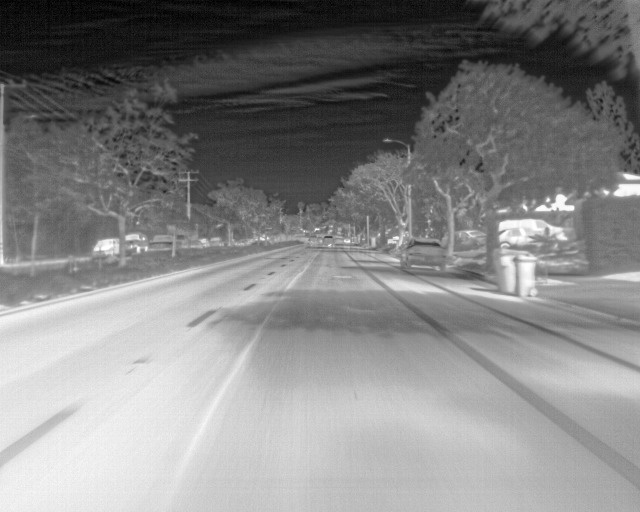vehicle: (496, 211, 569, 250), (401, 240, 448, 272), (124, 231, 153, 254), (89, 238, 126, 256)
